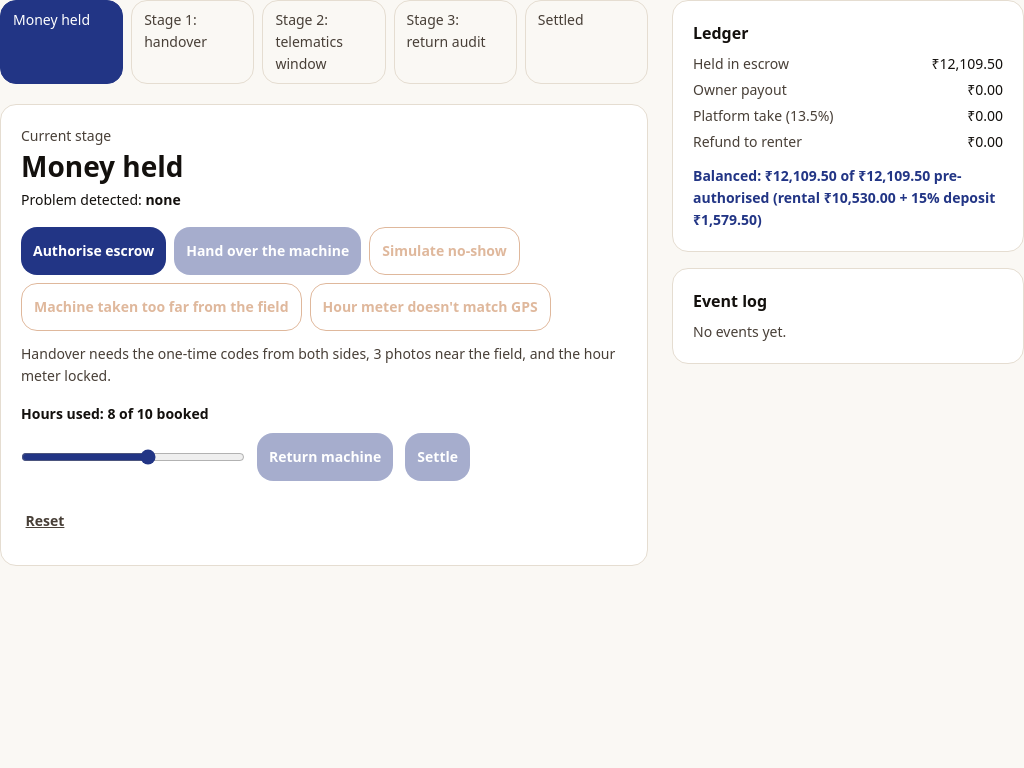
Scenario: EscrowStateMachine › hour tamper opens a D-02 dispute
Click the button "Authorise escrow" at point(94, 251), box [21, 227, 166, 275]
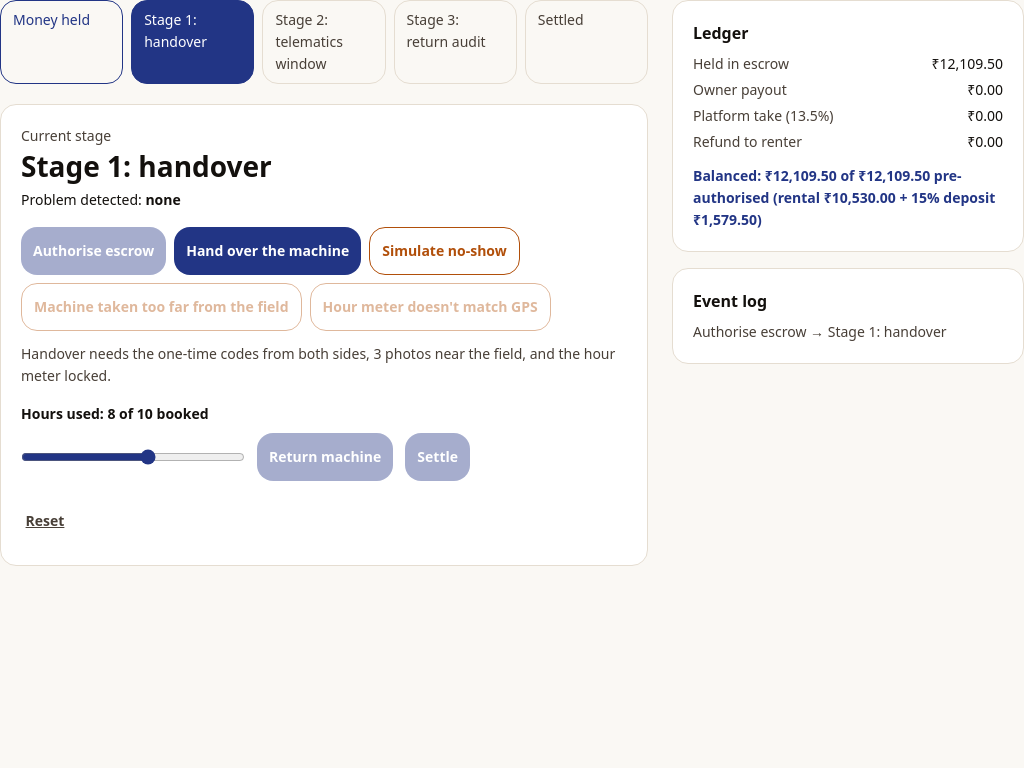
Click the button "Hand over the machine" at point(268, 251), box [174, 227, 361, 275]
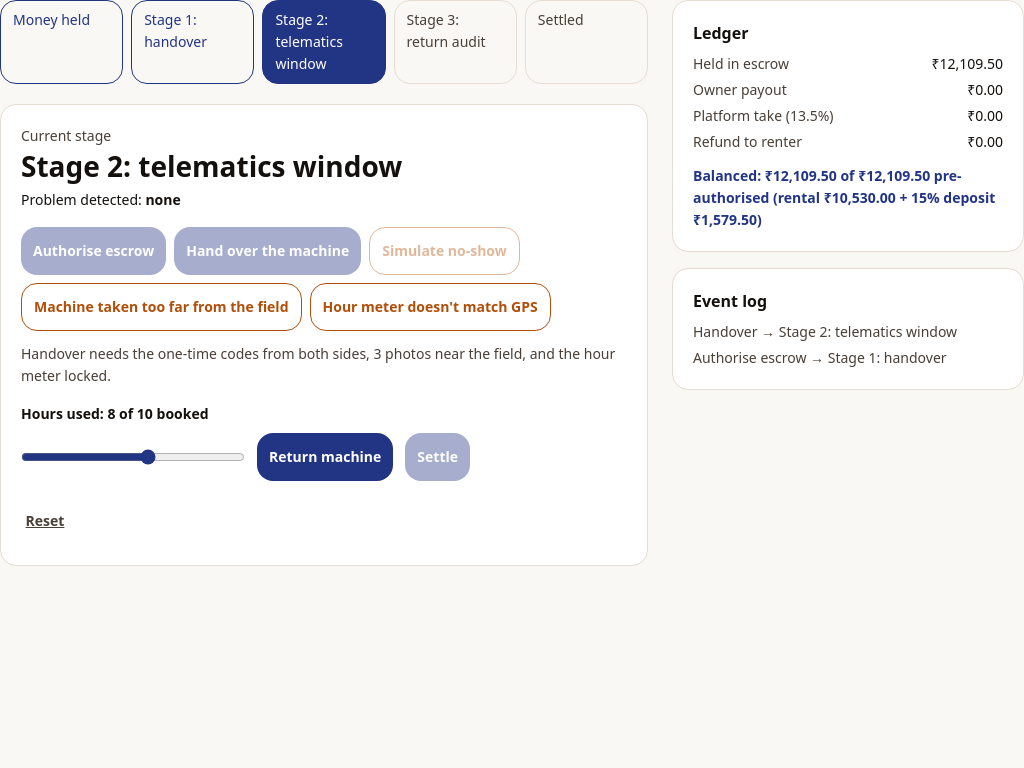
Click the button "Hour meter doesn't match GPS" at point(430, 307), box [310, 283, 551, 331]
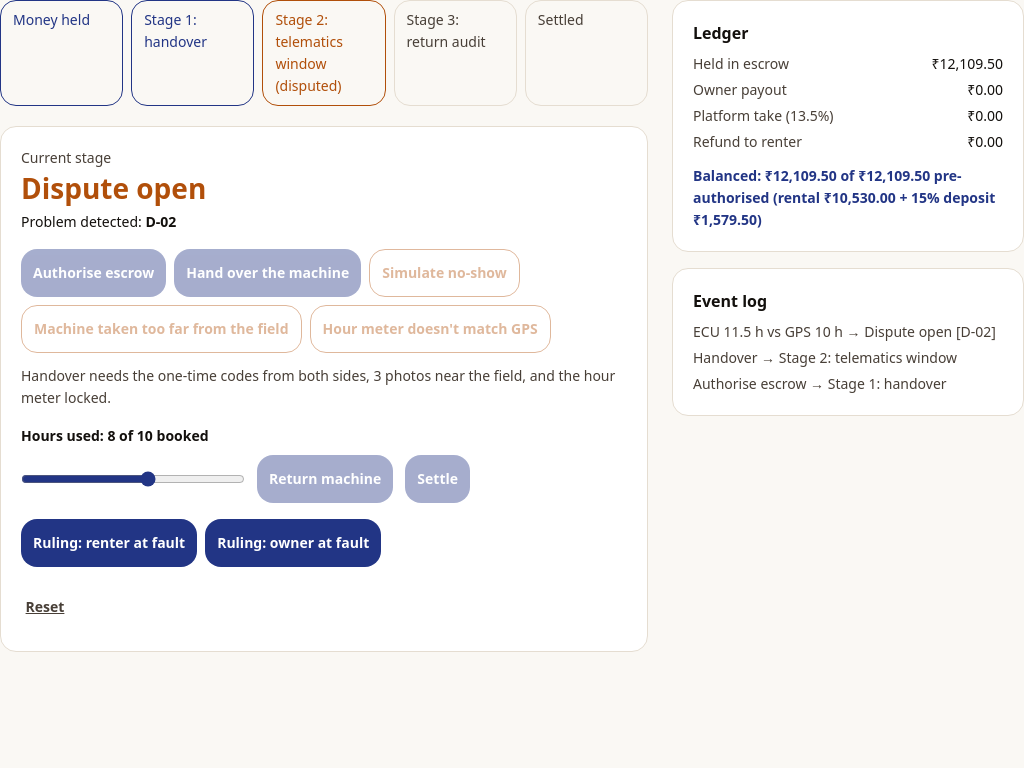
expect the text with test id "rule-fired" reads "D-02": met, box [145, 212, 176, 231]
